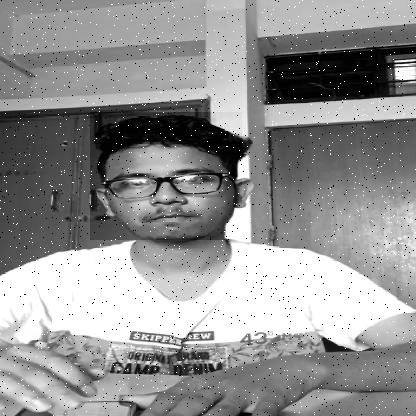Normal: (90, 112, 242, 240)
